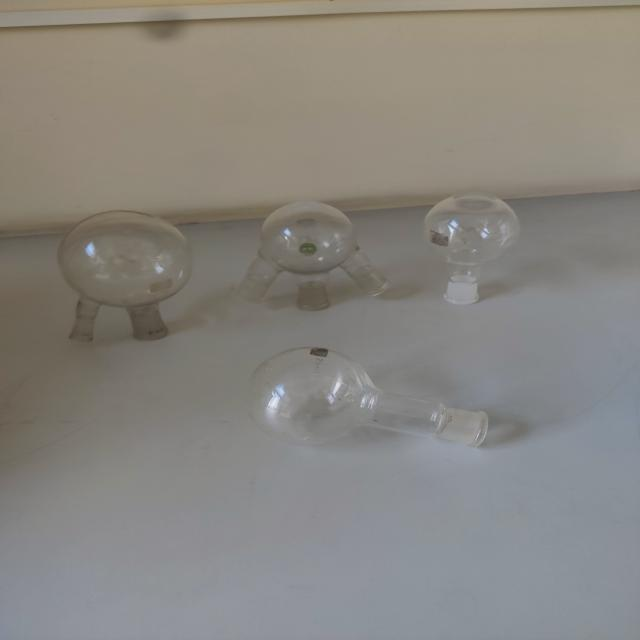Round_Bottom_Flask_Borosilicate_Glass_1_Neck: (216, 318, 522, 471), (395, 181, 550, 330)
Round_Bottom_Flask_Borosilicate_Glass_2_Neck: (30, 202, 222, 366)
Round_Bottom_Flask_Borosilicate_Glass_3_Neck: (206, 164, 407, 328)
